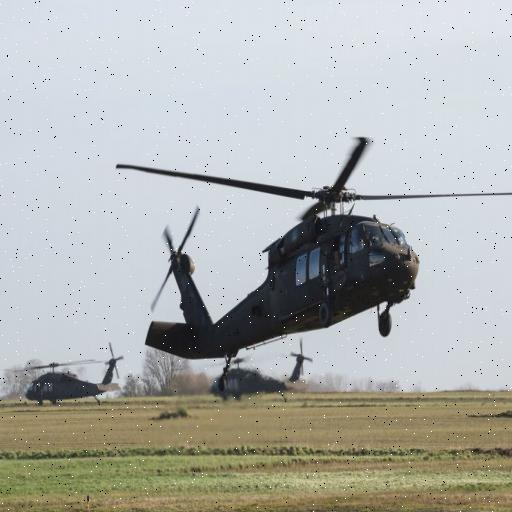helicopter: (137, 140, 512, 382), (213, 332, 320, 413), (15, 342, 127, 417)
